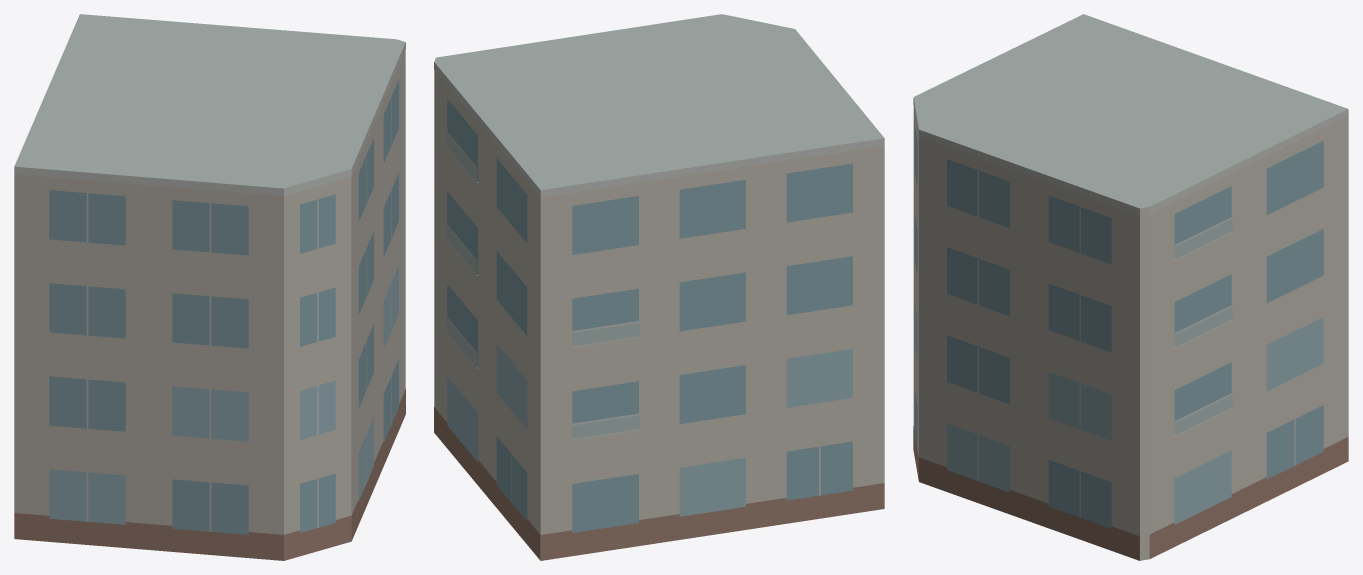
File: survey-upis-32623388.glb
3 renders of one model, left to right at view 1: azimuth 30°, elevation 25°; view 2: azimuth 150°, elevation 25°; view 3: azimuth 270°, elevation 25°, orthographic. The views are drawn at different scales.
Visible parts, largest first — view 1: survey-upis-32623388.tmp; view 2: survey-upis-32623388.tmp; view 3: survey-upis-32623388.tmp.
Boxes of the visible parts, <box> form: survey-upis-32623388.tmp: <box>14,14,405,560</box>; survey-upis-32623388.tmp: <box>434,14,884,560</box>; survey-upis-32623388.tmp: <box>913,14,1348,560</box>.
Bounding box in the file's own units: 14.21 × 12 × 13.44.
